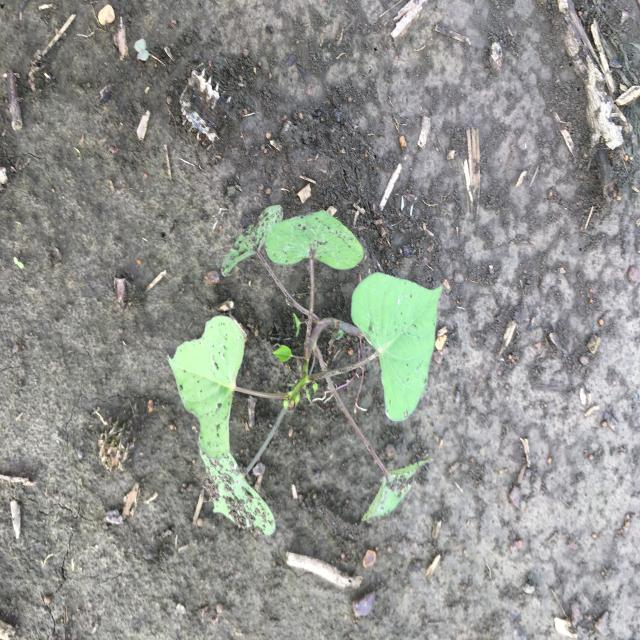MorningGlory: (164, 202, 444, 538)
